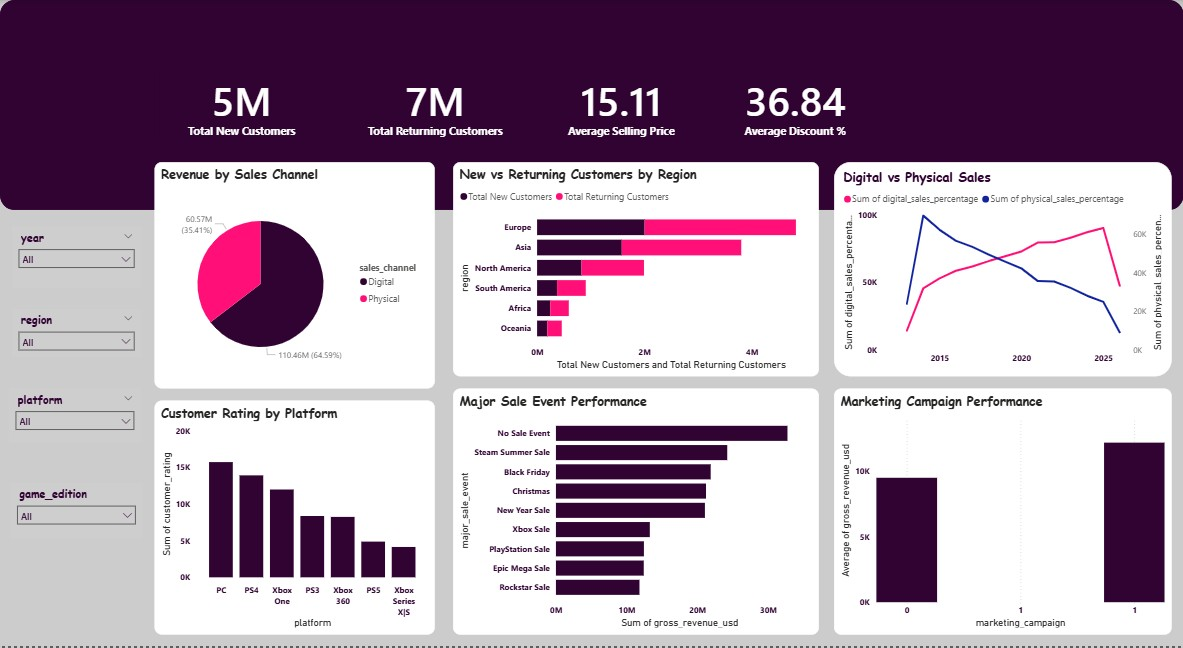

The dashboard page shown, as its layout file describes it:
{"tool":"powerbi","page":{"name":"Sales & Customer Analytics","canvas":[1760,960],"ordinal":1},"visuals":[{"type":"shape","box":[0,0,1759.3,312.2],"z":0},{"type":"card","fields":{"Values":["GTA_Worldwide_Cleaned_Data.Total New Customers"]},"box":[229.7,102.6,258.7,107],"z":1},{"type":"card","fields":{"Values":["GTA_Worldwide_Cleaned_Data.Total Returning Customers"]},"box":[517.3,102.6,258.7,107],"z":2},{"type":"card","fields":{"Values":["GTA_Worldwide_Cleaned_Data.Average Selling Price"]},"box":[793.8,102.6,258.7,107],"z":3},{"type":"card","fields":{"Values":["GTA_Worldwide_Cleaned_Data.Average Discount %"]},"box":[1052.4,102.6,258.7,107],"z":4},{"type":"lineChart","title":"Digital vs Physical Sales","fields":{"Category":["GTA_Worldwide_Cleaned_Data.year"],"Y":["Sum(GTA_Worldwide_Cleaned_Data.digital_sales_percentage)"],"Y2":["Sum(GTA_Worldwide_Cleaned_Data.physical_sales_percentage)"]},"box":[1239.7,240.8,501.7,318.9],"z":5},{"type":"barChart","title":"New vs Returning Customers by Region","fields":{"Category":["GTA_Worldwide_Cleaned_Data.region"],"Y":["GTA_Worldwide_Cleaned_Data.Total New Customers","GTA_Worldwide_Cleaned_Data.Total Returning Customers"]},"box":[673.4,240.8,544.1,318.9],"z":6},{"type":"clusteredColumnChart","title":"Marketing Campaign Performance","fields":{"Category":["GTA_Worldwide_Cleaned_Data.marketing_campaign"],"Y":["Avg(GTA_Worldwide_Cleaned_Data.gross_revenue_usd)"]},"box":[1239.7,577.5,501.7,365.7],"z":7},{"type":"clusteredBarChart","title":"Major Sale Event Performance","fields":{"Category":["GTA_Worldwide_Cleaned_Data.major_sale_event"],"Y":["Sum(GTA_Worldwide_Cleaned_Data.gross_revenue_usd)"]},"box":[673.4,577.5,544.1,365.7],"z":8},{"type":"pieChart","title":"Revenue by Sales Channel","fields":{"Category":["GTA_Worldwide_Cleaned_Data.sales_channel"],"Y":["Sum(GTA_Worldwide_Cleaned_Data.gross_revenue_usd)"]},"box":[229.7,240.8,417,336.7],"z":9},{"type":"clusteredColumnChart","title":"Customer Rating by Platform","fields":{"Category":["GTA_Worldwide_Cleaned_Data.platform"],"Y":["Sum(GTA_Worldwide_Cleaned_Data.customer_rating)"]},"box":[229.7,595.3,417,347.8],"z":10},{"type":"slicer","fields":{"Values":["GTA_Worldwide_Cleaned_Data.year"]},"box":[17.8,336.7,191.8,91.4],"z":11},{"type":"slicer","fields":{"Values":["GTA_Worldwide_Cleaned_Data.region"]},"box":[17.8,459.3,191.8,71.4],"z":12},{"type":"slicer","fields":{"Values":["GTA_Worldwide_Cleaned_Data.platform"]},"box":[13.4,577.5,196.2,80.3],"z":13},{"type":"slicer","fields":{"Values":["GTA_Worldwide_Cleaned_Data.game_edition"]},"box":[15.6,718,196.2,82.5],"z":14},{"type":"pageNavigator","box":[854,17.8,816.1,66.9],"z":15}]}

Visuals, with their boxes in screenshot pixels (x1, y1, x2, y2), scaled from the page's 1760x960 canvas onto the 1183x648 screenshot:
shape: box=[0, 0, 1182, 211]
card - GTA_Worldwide_Cleaned_Data.Total New Customers: box=[154, 69, 328, 141]
card - GTA_Worldwide_Cleaned_Data.Total Returning Customers: box=[348, 69, 522, 141]
card - GTA_Worldwide_Cleaned_Data.Average Selling Price: box=[534, 69, 707, 141]
card - GTA_Worldwide_Cleaned_Data.Average Discount %: box=[707, 69, 881, 141]
"Digital vs Physical Sales" lineChart: box=[833, 163, 1170, 378]
"New vs Returning Customers by Region" barChart: box=[453, 163, 818, 378]
"Marketing Campaign Performance" clusteredColumnChart: box=[833, 390, 1170, 637]
"Major Sale Event Performance" clusteredBarChart: box=[453, 390, 818, 637]
"Revenue by Sales Channel" pieChart: box=[154, 163, 435, 390]
"Customer Rating by Platform" clusteredColumnChart: box=[154, 402, 435, 637]
slicer - GTA_Worldwide_Cleaned_Data.year: box=[12, 227, 141, 289]
slicer - GTA_Worldwide_Cleaned_Data.region: box=[12, 310, 141, 358]
slicer - GTA_Worldwide_Cleaned_Data.platform: box=[9, 390, 141, 444]
slicer - GTA_Worldwide_Cleaned_Data.game_edition: box=[10, 485, 142, 540]
pageNavigator: box=[574, 12, 1123, 57]
